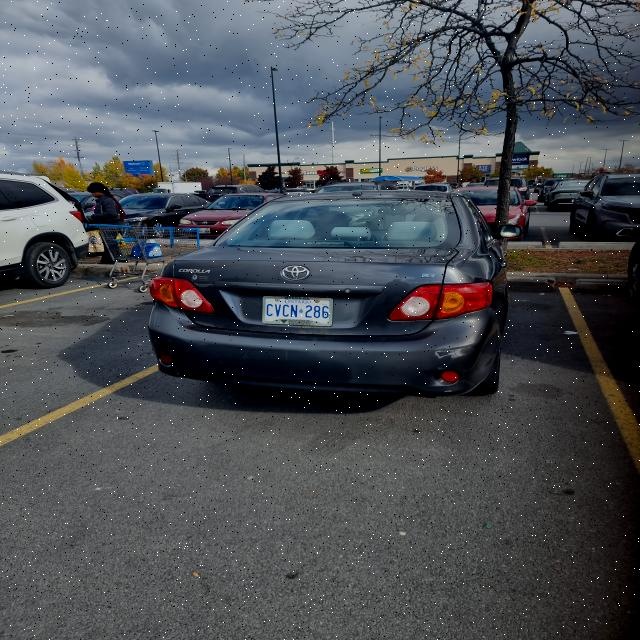plaque: (263, 297, 332, 326), (200, 228, 210, 234)
